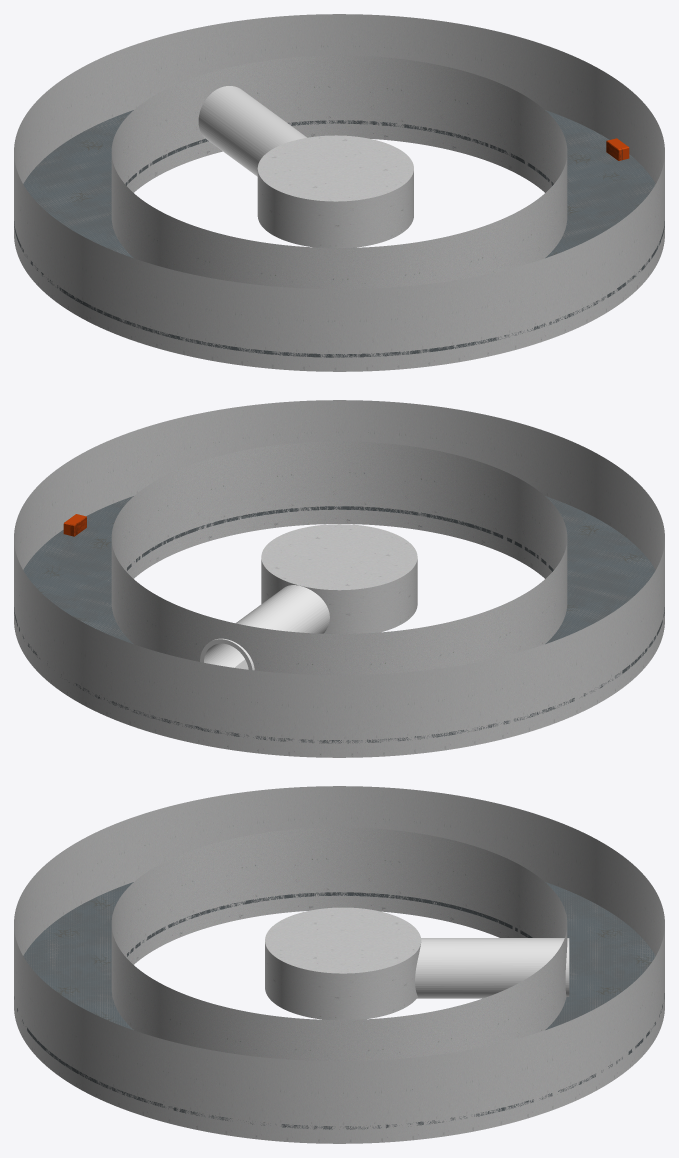
Rendered from loopbase.gltf.
3 views of the same model, one above another, from view 1: azimuth 30°, elevation 25°; view 2: azimuth 150°, elevation 25°; view 3: azimuth 270°, elevation 25° (orthographic).
Visible parts, largest first — view 1: outerWall, innerWall.003, outerWall.003, outerWall.001, transportRoom, innerWall, outerWall.002, innerWall.002, innerWall.001, levelBase.002, levelBase.001, tunnel (+2 smaller); view 2: outerWall.002, innerWall.001, outerWall.001, outerWall.003, innerWall.002, outerWall, transportRoom, innerWall, levelBase, innerWall.003, levelBase.003, tunnel (+2 smaller); view 3: outerWall.003, outerWall.001, innerWall, outerWall.002, innerWall.002, outerWall, transportRoom, innerWall.001, innerWall.003, tunnel, levelBase, levelBase.002 (+2 smaller).
Boxes of the visible parts, bbox=[...] form: outerWall: bbox=[59, 222, 498, 371]; innerWall.003: bbox=[225, 55, 536, 185]; outerWall.003: bbox=[176, 14, 621, 140]; outerWall.001: bbox=[498, 83, 664, 353]; transportRoom: bbox=[234, 135, 413, 247]; innerWall: bbox=[143, 201, 450, 289]; outerWall.002: bbox=[14, 32, 176, 304]; innerWall.002: bbox=[111, 68, 225, 261]; innerWall.001: bbox=[451, 104, 567, 280]; levelBase.002: bbox=[14, 110, 208, 288]; levelBase.001: bbox=[499, 151, 664, 339]; tunnel: bbox=[198, 86, 306, 176]; outerWall.002: bbox=[176, 605, 623, 757]; innerWall.001: bbox=[142, 441, 455, 571]; outerWall.001: bbox=[57, 400, 505, 533]; outerWall.003: bbox=[14, 469, 176, 739]; innerWall.002: bbox=[225, 585, 538, 675]; outerWall: bbox=[505, 419, 664, 687]; transportRoom: bbox=[234, 524, 417, 669]; innerWall: bbox=[456, 455, 567, 646]; levelBase: bbox=[456, 496, 664, 672]; innerWall.003: bbox=[111, 490, 225, 661]; levelBase.003: bbox=[14, 534, 176, 723]; tunnel: bbox=[200, 585, 329, 670]; outerWall.003: bbox=[339, 928, 664, 1143]; outerWall.001: bbox=[14, 928, 339, 1143]; innerWall: bbox=[111, 827, 336, 964]; outerWall.002: bbox=[335, 786, 664, 955]; innerWall.002: bbox=[336, 827, 567, 937]; outerWall: bbox=[14, 786, 335, 955]; transportRoom: bbox=[265, 907, 421, 1019]; innerWall.001: bbox=[111, 928, 339, 1061]; innerWall.003: bbox=[339, 928, 567, 1061]; tunnel: bbox=[415, 938, 569, 998]; levelBase: bbox=[23, 882, 336, 987]; levelBase.002: bbox=[336, 882, 655, 988].
Size of the model in its own units: 100 by 14 by 100.
Materials: 3 (3 with a texture image).
